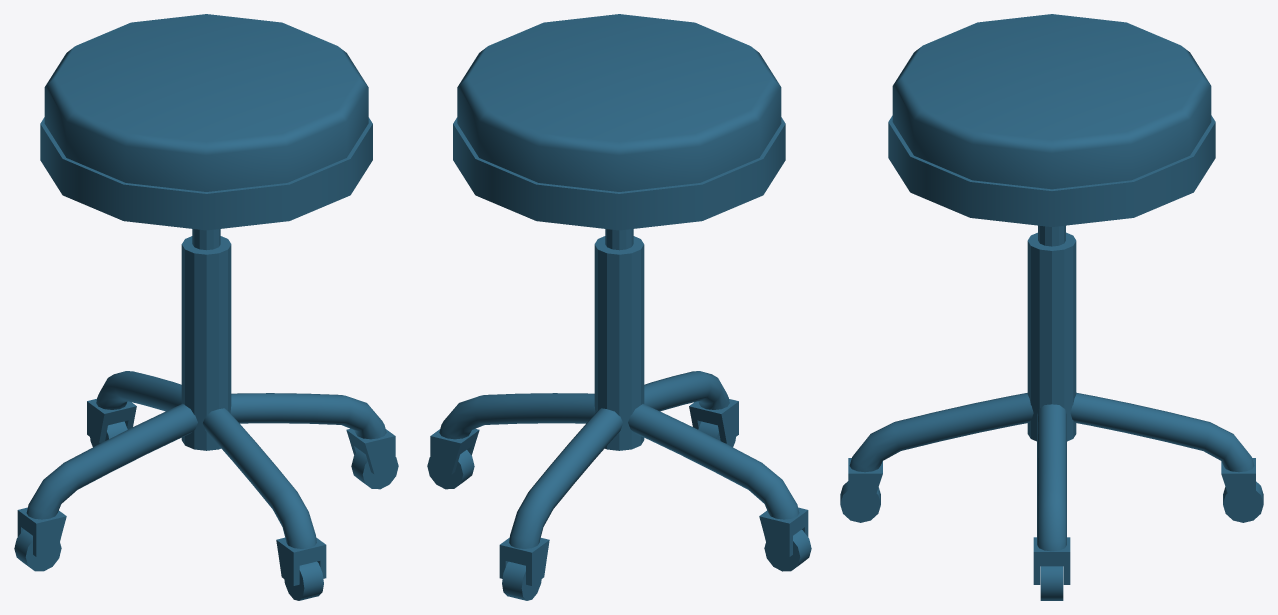
Rendered from Stool.fbx.
The picture shows the model from 3 angles, left to right: view 1: azimuth 30°, elevation 25°; view 2: azimuth 150°, elevation 25°; view 3: azimuth 270°, elevation 25°; orthographic projection.
Visible parts, largest first — view 1: s_02, s_01, l_04, l_03, l_02, l_01, tm_04, tm_03, tm_02, tm_01, t_02, t_04 (+1 smaller); view 2: s_02, s_01, l_04, l_01, l_02, l_03, tm_04, tm_01, tm_02, tm_03, t_01, t_04 (+1 smaller); view 3: s_02, s_01, l_01, l_03, l_02, tm_03, tm_01, tm_02, t_03, t_02, t_01.
Part boxes in pixels (bbox=[...]): s_02: bbox=[40, 14, 372, 230]; s_01: bbox=[181, 229, 231, 450]; l_04: bbox=[26, 403, 197, 519]; l_03: bbox=[203, 408, 316, 548]; l_02: bbox=[230, 393, 386, 439]; l_01: bbox=[96, 371, 181, 411]; tm_04: bbox=[17, 507, 66, 556]; tm_03: bbox=[276, 537, 326, 585]; tm_02: bbox=[346, 428, 395, 474]; tm_01: bbox=[87, 399, 136, 443]; t_02: bbox=[284, 561, 323, 600]; t_04: bbox=[14, 529, 61, 571]; s_02: bbox=[453, 14, 785, 230]; s_01: bbox=[594, 229, 644, 450]; l_04: bbox=[628, 404, 799, 519]; l_01: bbox=[509, 408, 622, 548]; l_02: bbox=[439, 393, 595, 439]; l_03: bbox=[644, 371, 729, 411]; tm_04: bbox=[759, 507, 808, 556]; tm_01: bbox=[499, 538, 549, 585]; tm_02: bbox=[430, 429, 479, 474]; tm_03: bbox=[689, 399, 738, 443]; t_01: bbox=[502, 561, 541, 600]; t_04: bbox=[764, 529, 811, 571]; s_02: bbox=[888, 14, 1215, 226]; s_01: bbox=[1027, 225, 1076, 441]; l_01: bbox=[1070, 392, 1254, 472]; l_03: bbox=[849, 393, 1033, 472]; l_02: bbox=[1037, 404, 1066, 551]; tm_03: bbox=[848, 458, 882, 506]; tm_01: bbox=[1221, 458, 1255, 506]; tm_02: bbox=[1033, 537, 1070, 584]; t_03: bbox=[1040, 566, 1063, 600]; t_02: bbox=[840, 481, 880, 522]; t_01: bbox=[1223, 481, 1263, 522].
Bounding box in the file's own units: 1.42 × 1.63 × 1.42.
